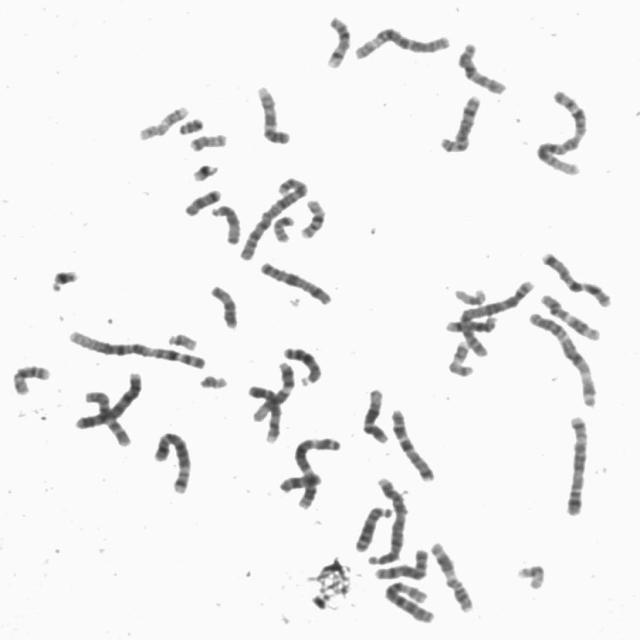A1: (64, 323, 210, 371), (532, 84, 591, 178)
A2: (235, 172, 312, 262), (454, 275, 537, 358)
A3: (524, 306, 602, 408), (290, 431, 344, 511)
B4: (70, 368, 145, 430), (364, 472, 411, 567)
B5: (561, 410, 592, 517), (150, 426, 194, 495)
C10: (80, 386, 135, 448), (455, 37, 510, 96)
C11: (427, 536, 477, 614), (536, 288, 604, 342)
C12: (249, 357, 298, 422), (358, 383, 392, 445)
C6: (350, 22, 454, 60), (380, 576, 438, 625)
C7: (538, 247, 615, 309), (387, 403, 438, 483)
C8: (436, 90, 484, 154), (370, 544, 430, 582)
C9: (253, 80, 294, 146), (243, 379, 284, 444)
D13: (351, 500, 394, 554), (279, 341, 324, 386)
D14: (322, 10, 354, 70), (443, 312, 500, 334)
D15: (206, 280, 241, 330), (207, 200, 244, 246)
E16: (8, 359, 54, 396), (296, 193, 329, 240)
E17: (134, 100, 192, 142), (444, 336, 477, 378)
E18: (180, 184, 224, 218), (275, 468, 324, 494)
F19: (513, 558, 548, 591), (451, 282, 489, 306)
F20: (186, 128, 230, 153), (270, 211, 298, 243)
G21: (46, 263, 82, 293), (188, 157, 222, 183)
G22: (163, 326, 200, 352), (195, 369, 231, 390)
X: (256, 257, 335, 306)
Y: (175, 112, 206, 136)
